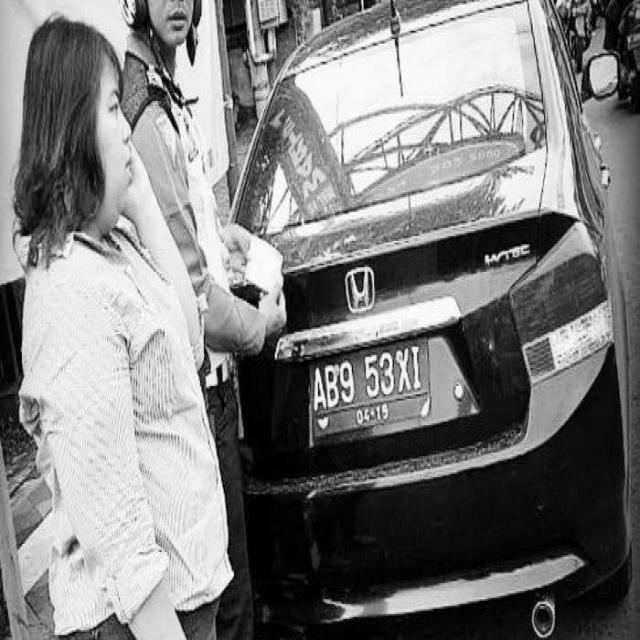3: (378, 353, 396, 399)
5: (362, 356, 382, 402)
9: (338, 360, 357, 408)
A: (312, 368, 326, 410)
B: (325, 365, 340, 407)
I: (410, 342, 423, 390)
X: (396, 342, 411, 398)
